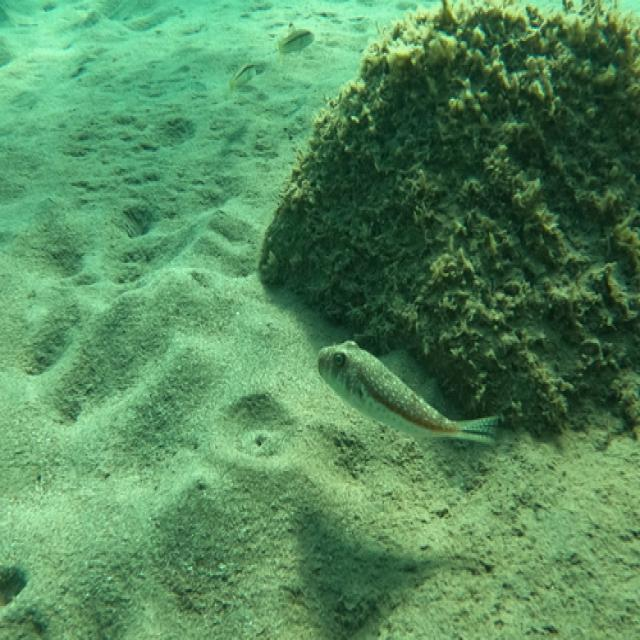Balik: (318, 342, 499, 442)
